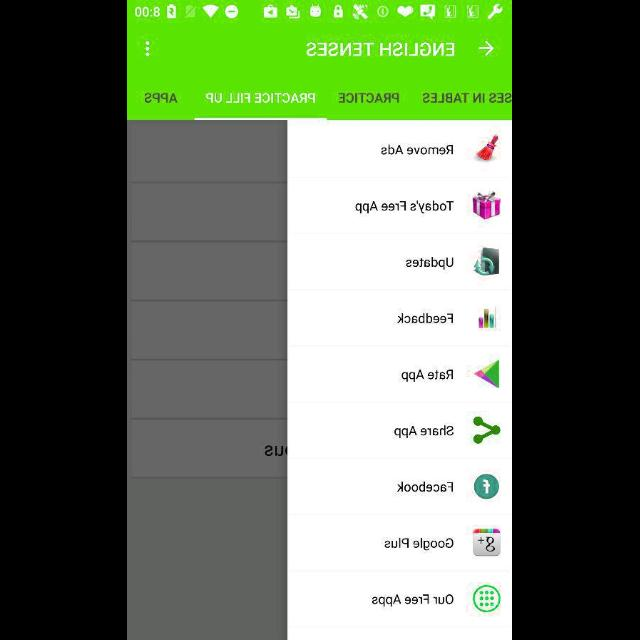icon: (472, 528, 502, 556), (474, 416, 501, 444), (474, 473, 500, 499), (479, 41, 495, 58), (145, 42, 151, 58)
image: (472, 192, 502, 220), (472, 585, 502, 613), (474, 360, 500, 390), (474, 248, 500, 276), (476, 135, 499, 161), (478, 307, 498, 329)
multitab: (128, 70, 512, 120)
panel: (288, 120, 512, 640)
text: (306, 42, 456, 58), (356, 200, 454, 214), (206, 92, 316, 104), (423, 92, 512, 104), (372, 594, 454, 606), (386, 537, 454, 551), (382, 144, 454, 156), (394, 425, 454, 439), (402, 369, 454, 383), (339, 92, 399, 104), (406, 257, 456, 271), (398, 481, 454, 493), (398, 313, 454, 325), (145, 92, 179, 104)
toolbar: (128, 25, 512, 69)
uppertaskbar: (128, 1, 512, 23)
